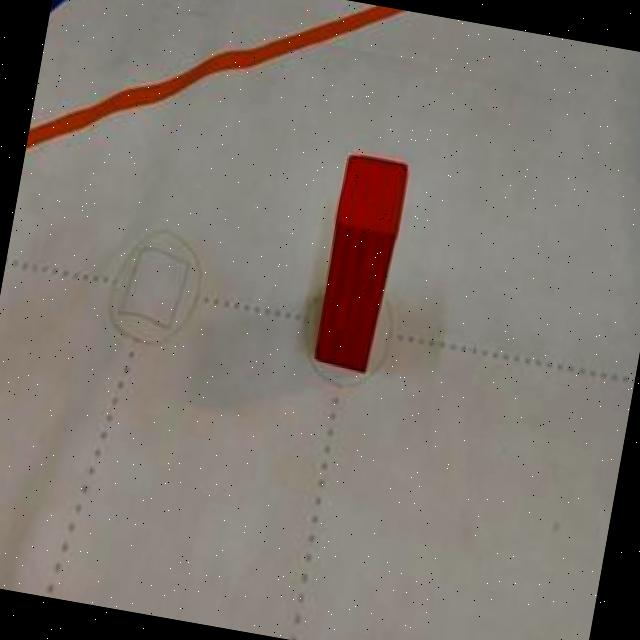redbox: (311, 152, 408, 372)
